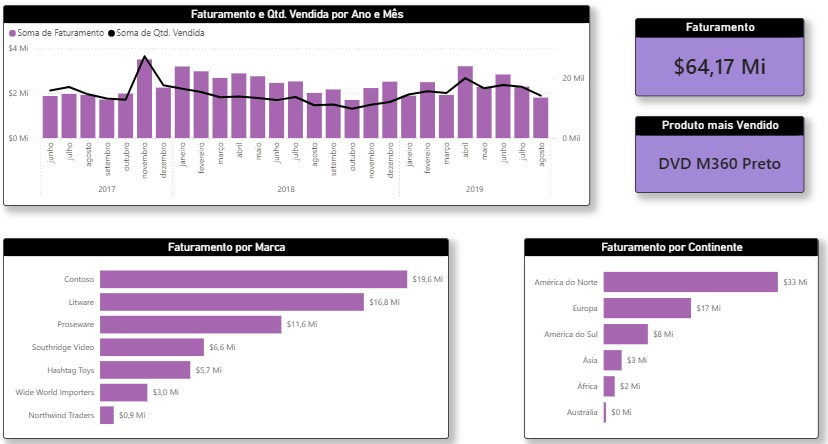

Layout of this report page (visuals, bound fields, positions):
{"tool":"powerbi","page":{"name":"Página 1","canvas":[1280,720],"ordinal":0},"visuals":[{"type":"cardVisual","title":"Faturamento","fields":{"Data":["Sum(BaseVendas.Faturamento)"]},"box":[951.6,59.4,253.2,116.7],"z":0},{"type":"cardVisual","title":"Produto mais Vendido","fields":{"Data":["Min(BaseVendas.Produto)"]},"box":[951.6,205.7,253.2,114.7],"z":1000},{"type":"barChart","title":"Faturamento por Marca","fields":{"Y":["Sum(BaseVendas.Faturamento)"],"Category":["BaseVendas.Marca"]},"box":[7.3,389,666.5,300.2],"z":2000},{"type":"lineClusteredColumnComboChart","title":"Faturamento e Qtd. Vendida por Ano e Mês","fields":{"Y":["Sum(BaseVendas.Faturamento)"],"Category":["BaseVendas.Data da Venda.Variation.Hierarquia de datas.Ano","BaseVendas.Data da Venda.Variation.Hierarquia de datas.Mês"],"Y2":["Sum(BaseVendas.Qtd. Vendida)"]},"box":[7.3,39.9,876.9,300.2],"z":3000},{"type":"barChart","title":"Faturamento por Continente","fields":{"Category":["BaseVendas.Continente"],"Y":["Sum(BaseVendas.Faturamento)"]},"box":[785.3,389,439.8,300.2],"z":4000}]}

Visuals, with their boxes on the page's 1280x720 design canvas (x1, y1, x2, y2). These are canvas units, not pixel positions in the 828x444 screenshot, which may show the page scaled, cropped or inside an application window:
"Faturamento" cardVisual: [left=952, top=59, right=1205, bottom=176]
"Produto mais Vendido" cardVisual: [left=952, top=206, right=1205, bottom=320]
"Faturamento por Marca" barChart: [left=7, top=389, right=674, bottom=689]
"Faturamento e Qtd. Vendida por Ano e Mês" lineClusteredColumnComboChart: [left=7, top=40, right=884, bottom=340]
"Faturamento por Continente" barChart: [left=785, top=389, right=1225, bottom=689]
